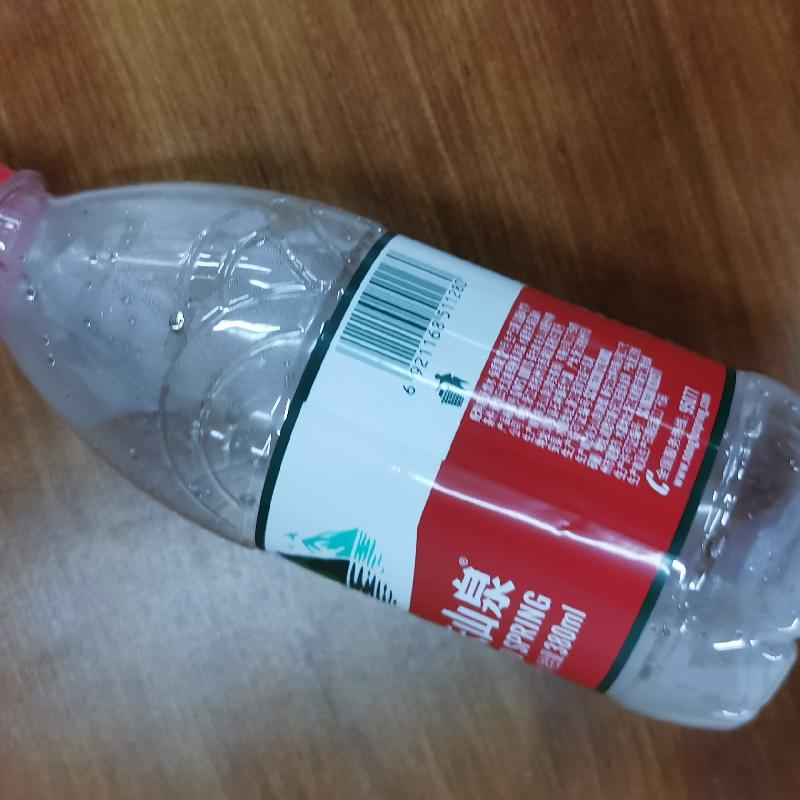bottles: (3, 150, 799, 737)
